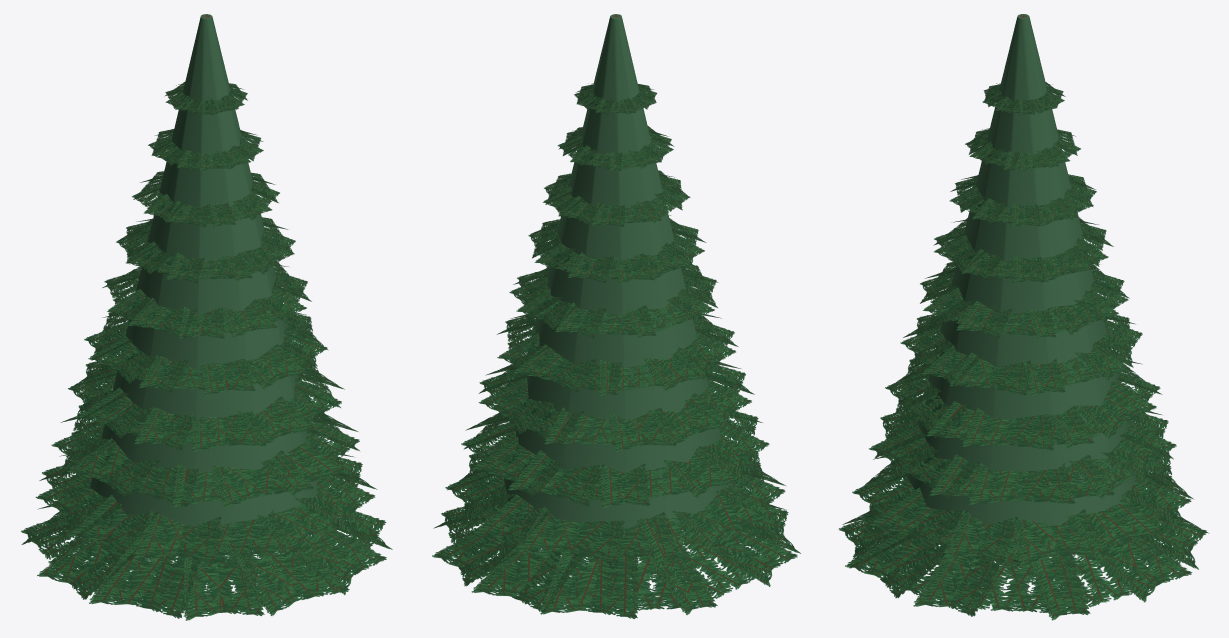
File: pine_1.gltf
3 views of the same model, side by side, from view 1: azimuth 30°, elevation 25°; view 2: azimuth 150°, elevation 25°; view 3: azimuth 270°, elevation 25° (orthographic).
Visible parts, largest first — view 1: pine_1; view 2: pine_1; view 3: pine_1.
Boxes of the visible parts, x1,y1,x2,y2 form: pine_1: [21, 14, 392, 620]; pine_1: [432, 14, 800, 619]; pine_1: [838, 14, 1209, 620].
Bounding box in the file's own units: 1.9 × 3 × 1.9.
3 materials, 2 textured.
